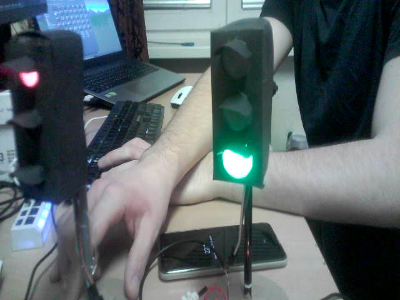trafficlight_green: (212, 32, 262, 179)
trafficlight_red: (8, 42, 59, 192)
